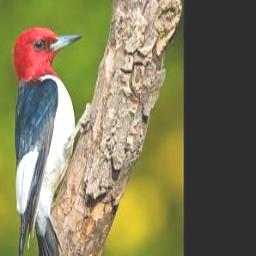Woodpecker: (7, 28, 97, 256)
